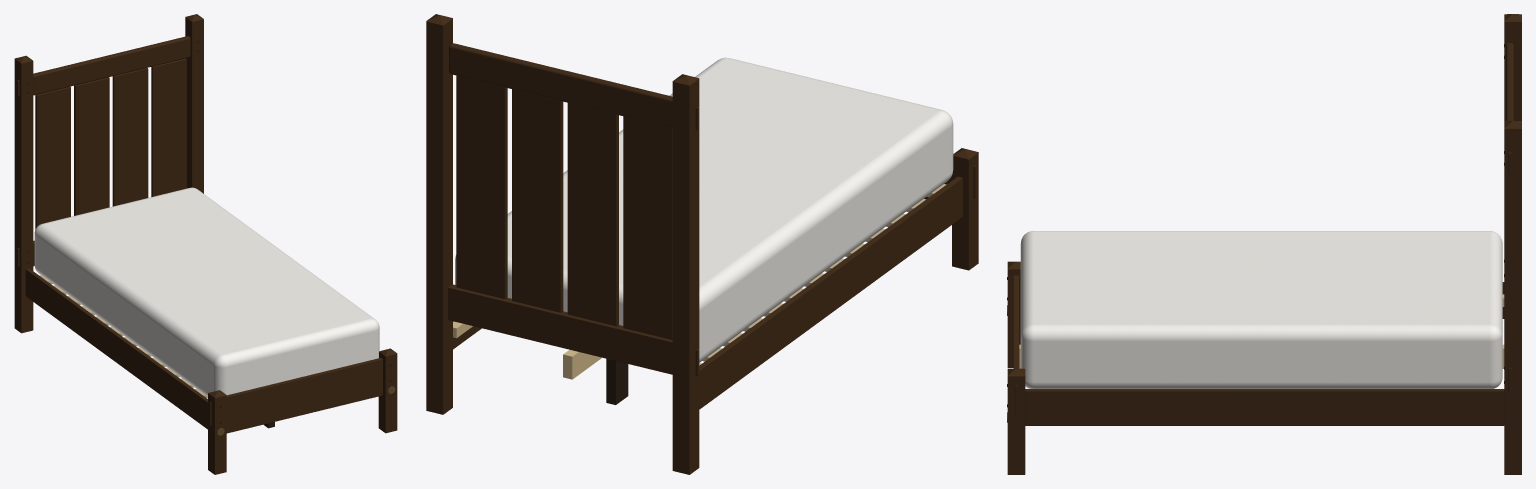
Rendered from bed-frame-twin-bare.dae.
The picture shows the model from 3 angles, left to right: view 1: azimuth 30°, elevation 25°; view 2: azimuth 150°, elevation 25°; view 3: azimuth 270°, elevation 25°; orthographic projection. The views are drawn at different scales.
Parts seen in each view (by area): view 1: Bed mattress, Bed foot rail, Bed side rail L, Bed headboard post L, Bed headboard slat 3, Bed headboard slat 1, Bed headboard slat 4, Bed headboard slat 2, Bed headboard rail top, Bed headboard post R, Bed foot leg L, Bed foot leg R; view 2: Bed mattress, Bed side rail L, Bed headboard slat 4, Bed headboard slat 3, Bed headboard slat 2, Bed headboard post L, Bed headboard slat 1, Bed headboard post R, Bed headboard rail bottom, Bed headboard rail top, Bed foot leg L, Bed center leg 3 (+1 smaller); view 3: Bed mattress, Bed side rail R, Bed headboard post R, Bed foot leg R, Bed headboard post L, Bed foot leg L, Bed foot rail, Bed headboard rail top.
Boxes of the visible parts, x1,y1,x2,y2 form: Bed mattress: [34, 187, 379, 396]; Bed foot rail: [226, 358, 382, 433]; Bed side rail L: [25, 268, 207, 429]; Bed headboard post L: [14, 59, 33, 333]; Bed headboard slat 3: [112, 68, 148, 206]; Bed headboard slat 1: [35, 86, 70, 229]; Bed headboard slat 4: [151, 58, 186, 196]; Bed headboard slat 2: [74, 77, 109, 215]; Bed headboard rail top: [33, 36, 190, 95]; Bed headboard post R: [185, 17, 203, 193]; Bed foot leg L: [208, 393, 226, 474]; Bed foot leg R: [378, 352, 397, 433]; Bed mattress: [455, 57, 953, 362]; Bed side rail L: [699, 176, 962, 409]; Bed headboard slat 4: [456, 75, 507, 298]; Bed headboard slat 3: [512, 89, 563, 312]; Bed headboard slat 2: [567, 103, 618, 326]; Bed headboard post L: [672, 79, 699, 474]; Bed headboard slat 1: [623, 116, 672, 339]; Bed headboard post R: [426, 18, 452, 414]; Bed headboard rail bottom: [448, 284, 672, 374]; Bed headboard rail top: [449, 43, 672, 128]; Bed foot leg L: [952, 152, 978, 270]; Bed center leg 3: [606, 358, 628, 404]; Bed mattress: [1020, 231, 1502, 388]; Bed side rail R: [1025, 389, 1504, 425]; Bed headboard post R: [1504, 128, 1521, 474]; Bed foot leg R: [1007, 376, 1025, 474]; Bed headboard post L: [1504, 21, 1521, 120]; Bed foot leg L: [1007, 269, 1020, 367]; Bed foot rail: [1013, 275, 1019, 368]; Bed headboard rail top: [1506, 43, 1513, 120].
Bounding box in the file's own units: 42.88 × 80.14 × 60.12.
Materials: 9 (1 with a texture image).
